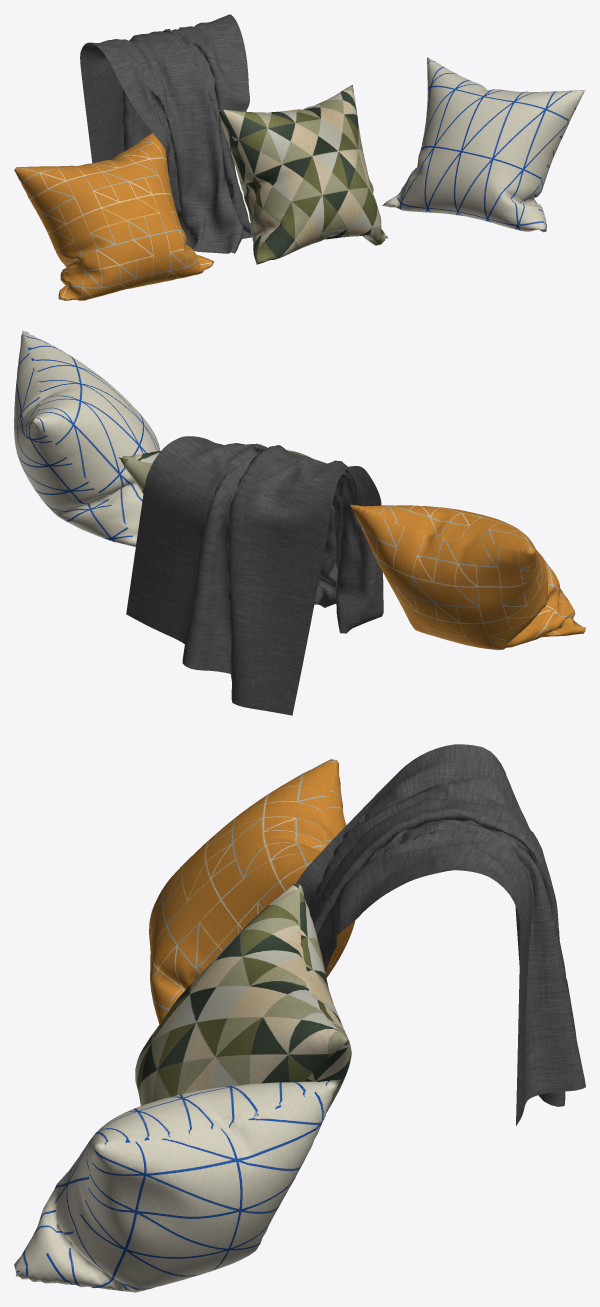
The model's file is cojines-1.obj.
3 renders of one model, top to bottom at view 1: azimuth 30°, elevation 25°; view 2: azimuth 150°, elevation 25°; view 3: azimuth 270°, elevation 25°, orthographic. The views are drawn at different scales.
Parts seen in each view (by area): view 1: Blanket_, William:_Small_Cushion.002, William:_Small_Cushion, William:_Small_Cushion.001; view 2: Blanket_, William:_Small_Cushion, William:_Small_Cushion.002, William:_Small_Cushion.001; view 3: William:_Small_Cushion.002, Blanket_, William:_Small_Cushion.001, William:_Small_Cushion.
Boxes of the visible parts, bbox=[...] form: Blanket_: bbox=[80, 14, 253, 253]; William:_Small_Cushion.002: bbox=[382, 57, 585, 232]; William:_Small_Cushion: bbox=[14, 128, 214, 300]; William:_Small_Cushion.001: bbox=[217, 84, 387, 264]; Blanket_: bbox=[126, 436, 383, 715]; William:_Small_Cushion: bbox=[350, 504, 585, 650]; William:_Small_Cushion.002: bbox=[14, 330, 160, 546]; William:_Small_Cushion.001: bbox=[118, 450, 313, 493]; William:_Small_Cushion.002: bbox=[14, 1079, 340, 1292]; Blanket_: bbox=[296, 744, 585, 1125]; William:_Small_Cushion.001: bbox=[135, 884, 351, 1112]; William:_Small_Cushion: bbox=[149, 759, 355, 1024].
Bounding box in the file's own units: 1.56 × 0.5825 × 0.9299.
Materials: 4 (4 with a texture image).
